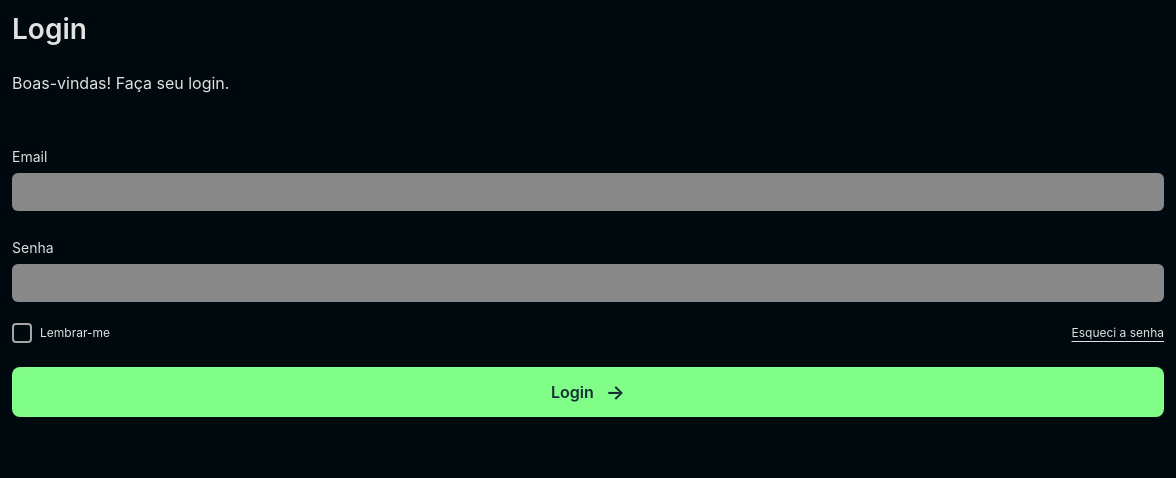
it: LoginForm › prevents invalid submission and focuses the first invalid field
Step 1. Click the button "Login →" → x=588, y=392, box [12,367,1164,417]
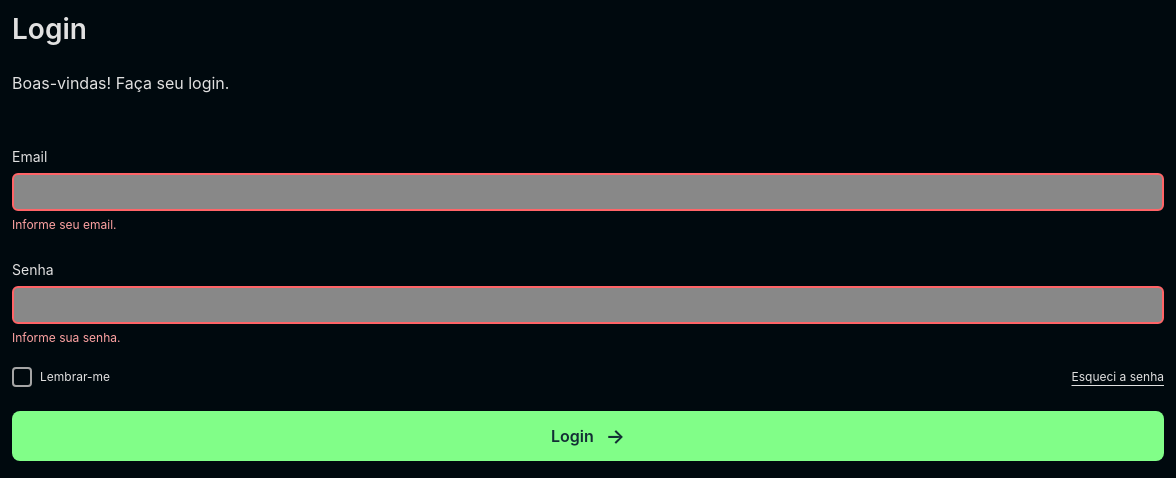
Check: the text "Informe seu email." is shown, box [12,217,116,232]
Check: the text "Informe sua senha." is shown, box [12,330,120,345]
